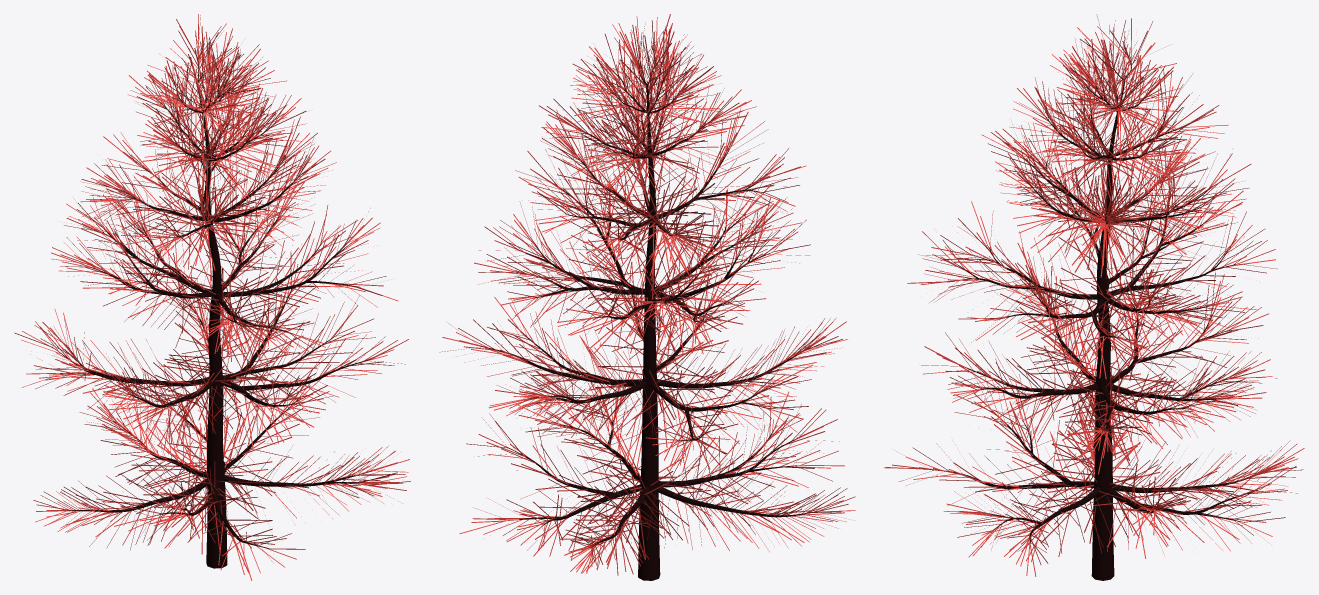
The model's file is Planet 2 Pine.fbx.
3 views of the same model, side by side, from view 1: azimuth 30°, elevation 25°; view 2: azimuth 150°, elevation 25°; view 3: azimuth 270°, elevation 25° (orthographic). The views are drawn at different scales.
Visible parts, largest first — view 1: Pine; view 2: Pine; view 3: Pine.
Boxes of the visible parts, x1=… form: Pine: x1=14, y1=14, x2=410, y2=580; Pine: x1=439, y1=14, x2=855, y2=580; Pine: x1=884, y1=14, x2=1304, y2=580.
Size of the model in its own units: 453 by 668 by 459.
